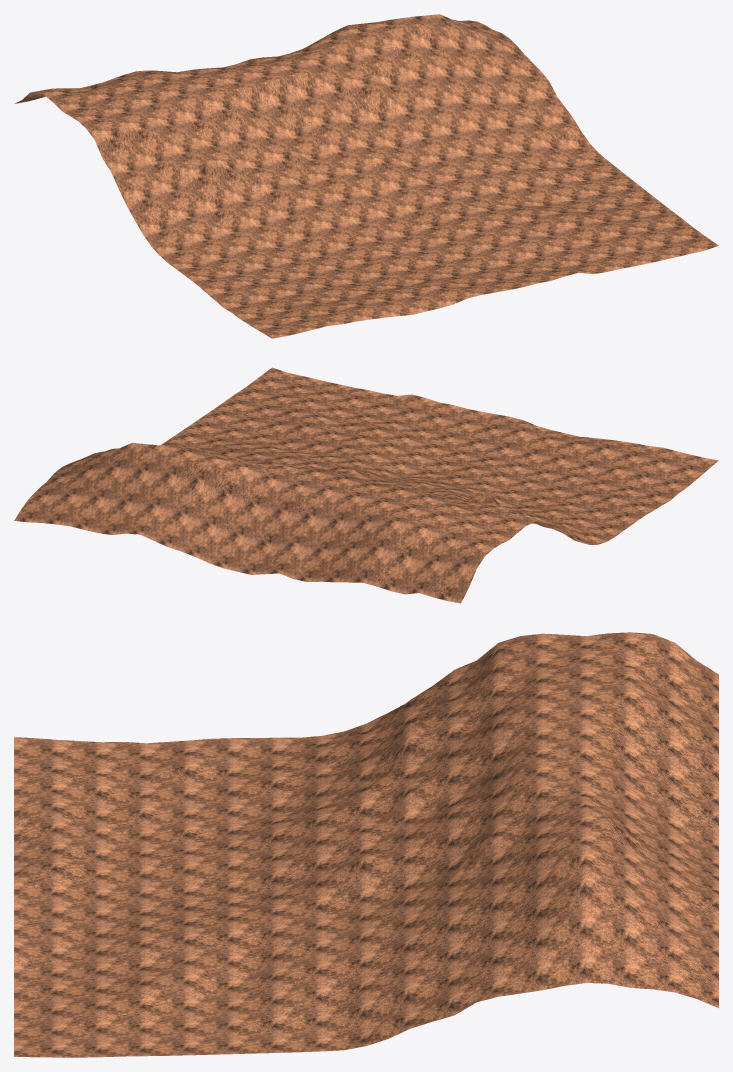
Rendered from terrain_08_05.dae.
3 views of the same model, one above another, from view 1: azimuth 30°, elevation 25°; view 2: azimuth 150°, elevation 25°; view 3: azimuth 270°, elevation 25° (orthographic). The views are drawn at different scales.
Parts seen in each view (by area): view 1: terrain_08_05-node; view 2: terrain_08_05-node; view 3: terrain_08_05-node.
Part boxes in pixels (x1,y1,x2,y2): terrain_08_05-node: [15, 14, 718, 338]; terrain_08_05-node: [14, 367, 718, 603]; terrain_08_05-node: [14, 632, 718, 1057].
Size of the model in its own units: 128 by 128 by 27.75.
1 material, 1 textured.
